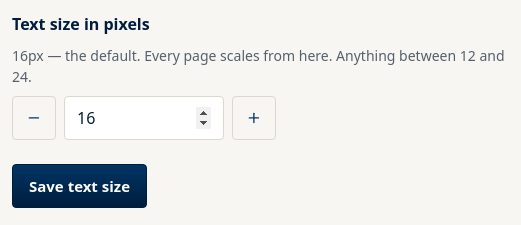
Test: TextSizeForm › steps one pixel at a time in either direction
This screenshot has width=521, height=225.
Click the button named "larger text" at (254, 118), box top-left (232, 96), bottom-right (276, 140)
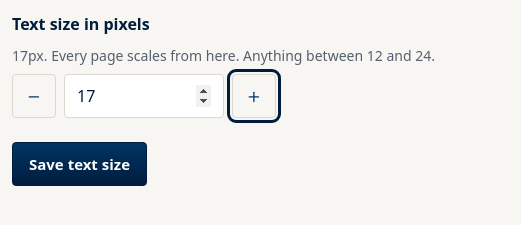
expect the number field labelled "Text size in pixels" holds "17": met, box top-left (64, 74), bottom-right (224, 118)
Click the button named "smaller text" at (34, 96), box top-left (12, 74), bottom-right (56, 118)
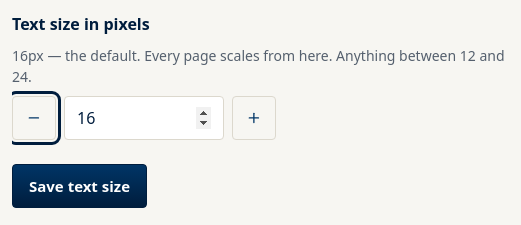
expect the number field labelled "Text size in pixels" holds "16": met, box top-left (64, 96), bottom-right (224, 140)
